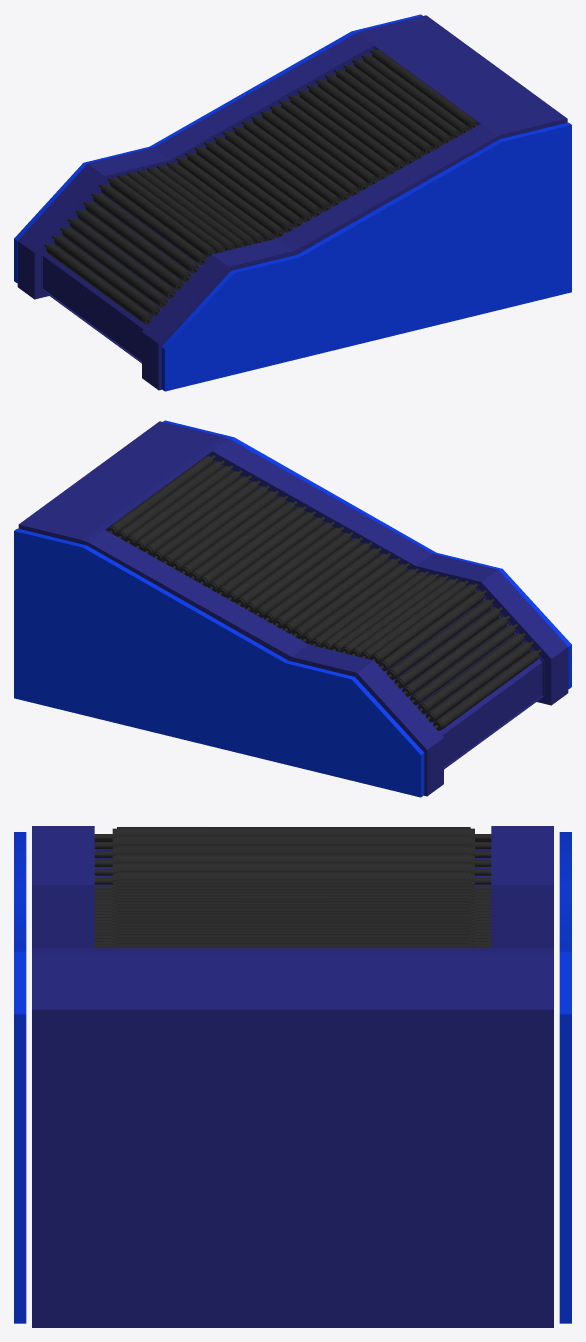
File: Conveyer_Belt_v5.FBX
3 views of the same model, one above another, from view 1: azimuth 30°, elevation 25°; view 2: azimuth 150°, elevation 25°; view 3: azimuth 270°, elevation 25° (orthographic). The views are drawn at different scales.
Visible parts, largest first — view 1: Box062, Cylinder001, Line002; view 2: Box062, Cylinder001, Line002; view 3: Line002, Cylinder001, Box062.
Boxes of the visible parts, x1,y1,x2,y2 form: Box062: (14,14,571,391); Cylinder001: (44,49,477,324); Line002: (17,15,567,390); Box062: (14,420,571,797); Cylinder001: (108,455,541,730); Line002: (18,421,568,796); Line002: (32,826,553,1327); Cylinder001: (94,827,491,948); Box062: (14,832,571,1323).
Size of the model in its own units: 866 by 349 by 554.
